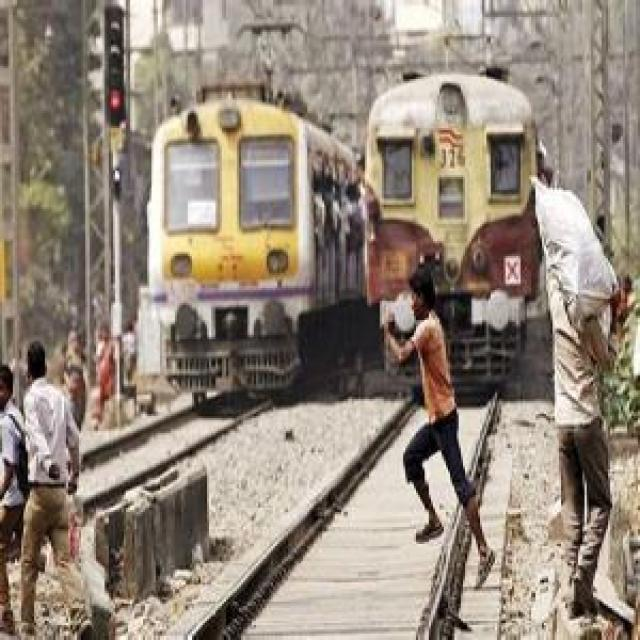danger: (529, 171, 623, 618), (393, 271, 484, 546), (20, 335, 86, 636), (0, 370, 32, 631)
